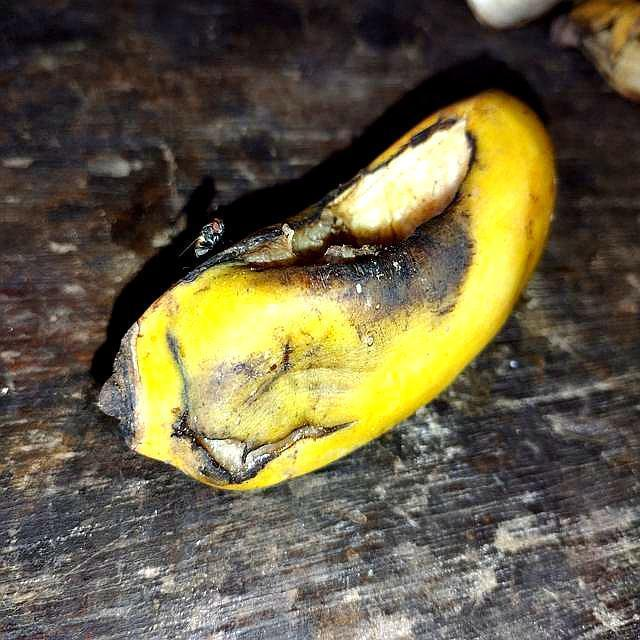Biodegradable: (62, 50, 640, 564)
